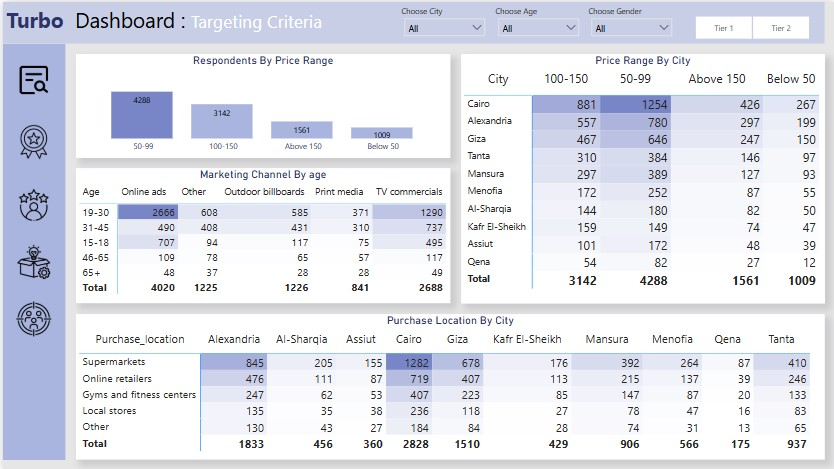

What the dashboard file says about the page in this screenshot:
{"tool":"powerbi","page":{"name":"Targeting Criteria","canvas":[1280,720],"ordinal":4},"visuals":[{"type":"textbox","box":[0,0,1264,64],"z":0},{"type":"slicer","title":"City","fields":{"Values":["dim_cities.City"]},"box":[608,16,144,48],"z":1000},{"type":"pivotTable","title":"Purchase Location By City","fields":{"Rows":["fact_survey_responses.Purchase_location"],"Values":["CountNonNull(fact_survey_responses.Response_ID)"],"Columns":["dim_cities.City"]},"box":[112,480,1152,224],"z":2000},{"type":"slicer","title":"Age","fields":{"Values":["dim_repondents.Age"]},"box":[752,16,144,48],"z":3000},{"type":"pivotTable","title":"Price Range By City","fields":{"Values":["CountNonNull(fact_survey_responses.Response_ID)"],"Columns":["fact_survey_responses.Price_range"],"Rows":["dim_cities.City"]},"box":[704,80,560,384],"z":4000},{"type":"slicer","title":"Gender","fields":{"Values":["dim_repondents.Gender"]},"box":[896,16,144,48],"z":5000},{"type":"pivotTable","title":"Marketing Channel By age","fields":{"Values":["CountNonNull(fact_survey_responses.Response_ID)"],"Rows":["dim_repondents.Age"],"Columns":["fact_survey_responses.Marketing_channels"]},"box":[112,256,576,208],"z":6000},{"type":"slicer","fields":{"Values":["dim_cities.Tier"]},"box":[1040,16,224,48],"z":7000},{"type":"columnChart","title":"Respondents By Price Range","fields":{"Category":["fact_survey_responses.Price_range"],"Y":["CountNonNull(fact_survey_responses.Response_ID)"]},"box":[112,80,576,160],"z":8000},{"type":"shape","box":[0,64,96,640],"z":9000},{"type":"image","box":[16,80,64,80],"z":10000},{"type":"image","box":[16,176,64,80],"z":11000},{"type":"image","box":[16,272,64,80],"z":12000},{"type":"image","box":[16,368,64,64],"z":13000},{"type":"image","box":[16,448,64,80],"z":14000},{"type":"textbox","box":[752,0,112,32],"z":15000},{"type":"textbox","box":[608,0,112,32],"z":16000},{"type":"textbox","box":[896,0,112,32],"z":17000}]}

Visuals, with their boxes in screenshot pixels (x1, y1, x2, y2), scaled from the page's 1280x720 canvas onto the 834x469 screenshot:
textbox: [x1=0, y1=0, x2=824, y2=42]
"City" slicer: [x1=396, y1=10, x2=490, y2=42]
"Purchase Location By City" pivotTable: [x1=73, y1=313, x2=824, y2=459]
"Age" slicer: [x1=490, y1=10, x2=584, y2=42]
"Price Range By City" pivotTable: [x1=459, y1=52, x2=824, y2=302]
"Gender" slicer: [x1=584, y1=10, x2=678, y2=42]
"Marketing Channel By age" pivotTable: [x1=73, y1=167, x2=448, y2=302]
slicer - dim_cities.Tier: [x1=678, y1=10, x2=824, y2=42]
"Respondents By Price Range" columnChart: [x1=73, y1=52, x2=448, y2=156]
shape: [x1=0, y1=42, x2=63, y2=459]
image: [x1=10, y1=52, x2=52, y2=104]
image: [x1=10, y1=115, x2=52, y2=167]
image: [x1=10, y1=177, x2=52, y2=229]
image: [x1=10, y1=240, x2=52, y2=281]
image: [x1=10, y1=292, x2=52, y2=344]
textbox: [x1=490, y1=0, x2=563, y2=21]
textbox: [x1=396, y1=0, x2=469, y2=21]
textbox: [x1=584, y1=0, x2=657, y2=21]
